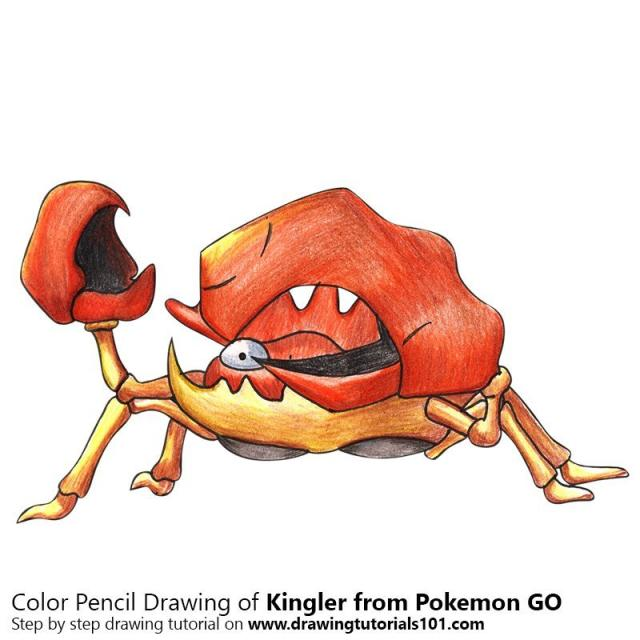Kingler: (56, 215, 554, 490)
